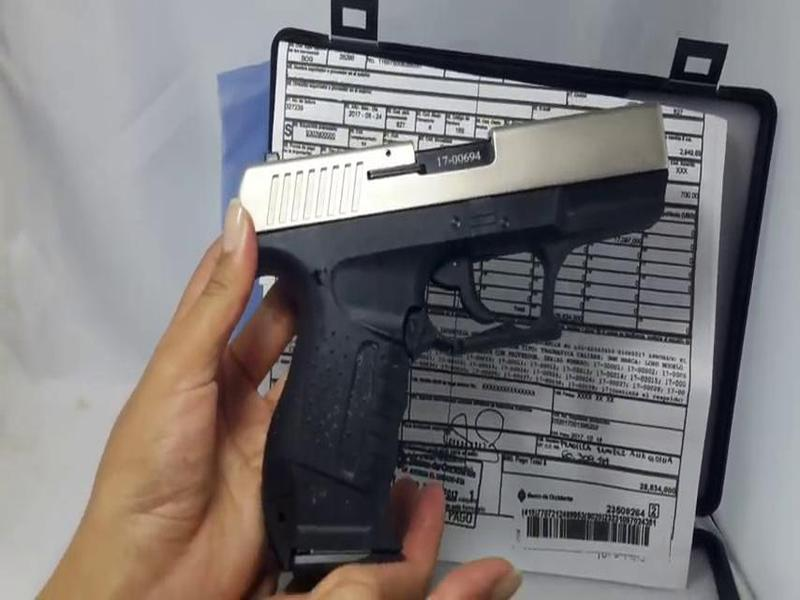Pistola: (215, 74, 680, 595)
